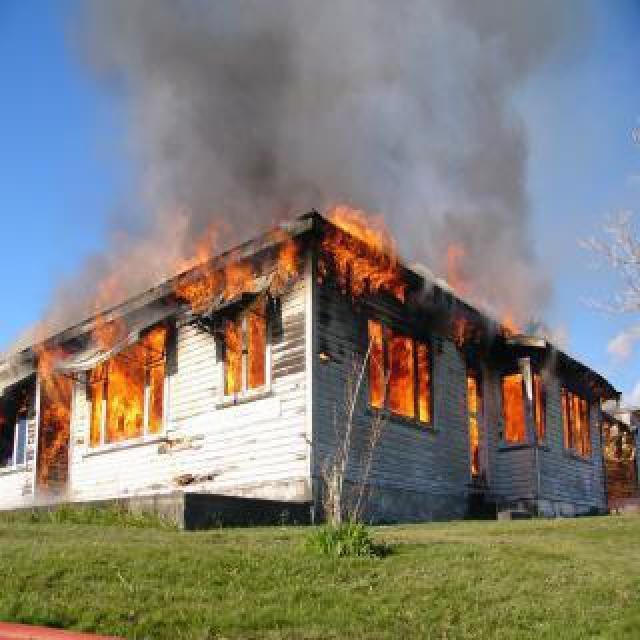Fire: (84, 300, 162, 454), (178, 214, 298, 312), (28, 340, 76, 488), (362, 326, 428, 430), (322, 214, 404, 296), (218, 316, 268, 402), (440, 246, 476, 344), (554, 392, 598, 456), (496, 366, 530, 448), (460, 366, 482, 486), (500, 298, 526, 346)
Smoke: (32, 204, 168, 298), (476, 206, 564, 298)
